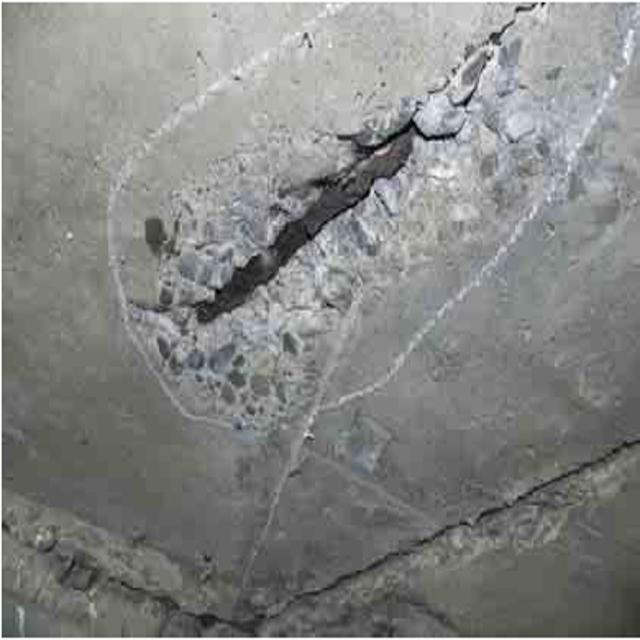spalling: (124, 24, 552, 414)
